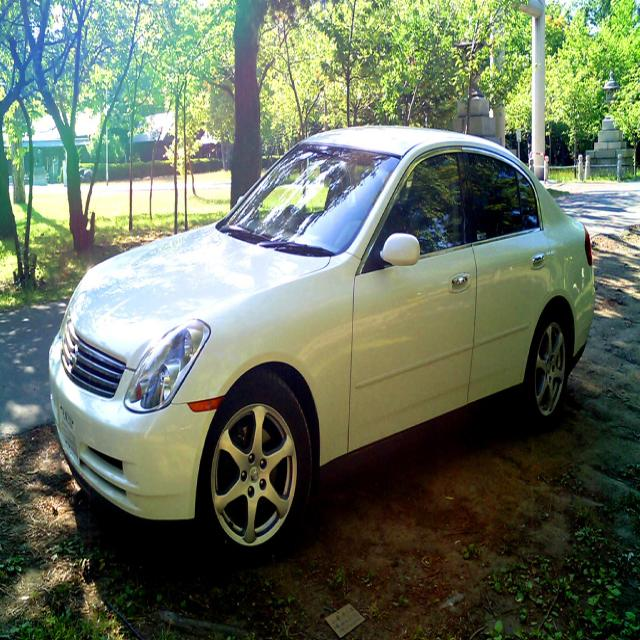car: (44, 113, 600, 562)
